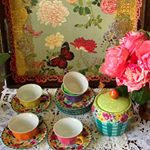cups: (5, 111, 45, 142), (12, 80, 52, 111), (51, 116, 88, 148), (57, 70, 89, 103)
